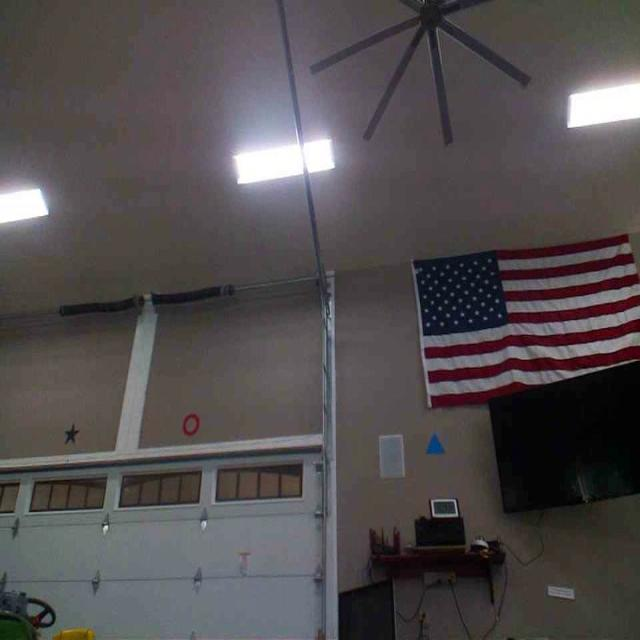ring_red: (181, 409, 200, 435)
star_black: (64, 422, 79, 444)
triangle_blue: (424, 432, 446, 455)
